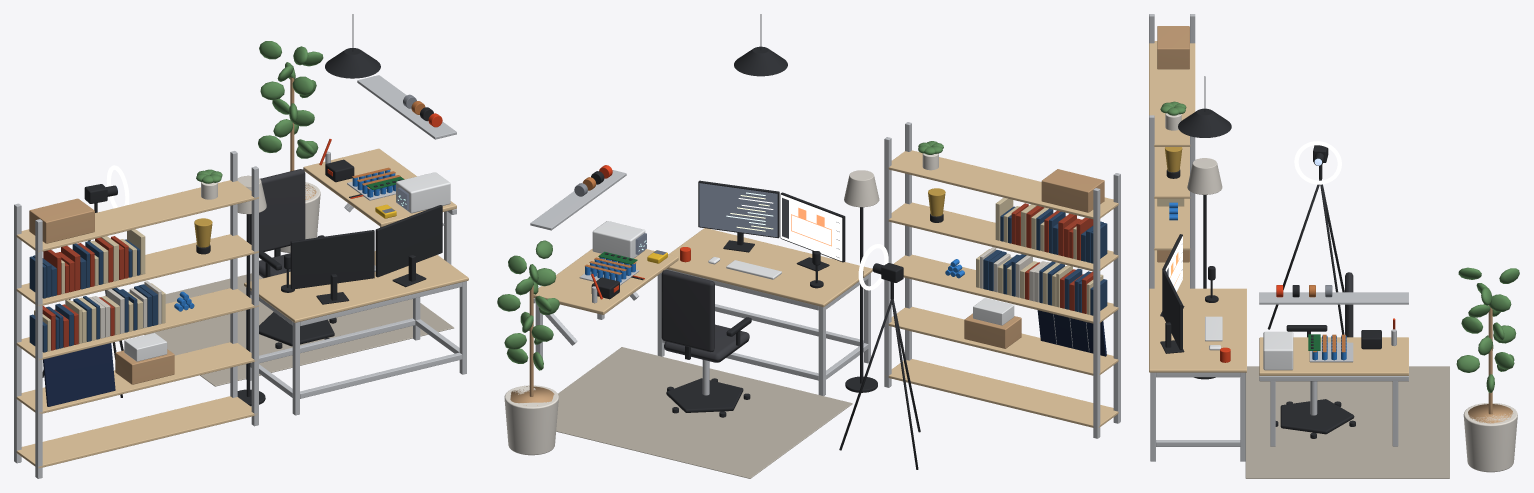
Rendered from calisma.glb.
3 renders of one model, left to right at view 1: azimuth 30°, elevation 25°; view 2: azimuth 150°, elevation 25°; view 3: azimuth 270°, elevation 25°, orthographic. The views are drawn at different scales.
Visible parts, largest first — view 1: rug, sh_board0, d_top, sh_board4, mon0_body, sh_board3, solar, ch_back, sh_board1, mon1_body, sh_board2, bn_top (+20 smaller); view 2: rug, d_top, sh_board0, sh_board1, sh_board4, ch_back, sh_board3, mon1_scr, bn_top, sh_board2, pl_pot, mon0_scr (+17 smaller); view 3: rug, d_top, bn_top, sh_board4, pl_pot, ch_base, bn_shelf, sh_board2, sbox3, sh_board3, scope_body, pend_shade (+21 smaller).
Boxes of the visible parts, <box> form: rug: <box>145,273,453,386</box>; sh_board0: <box>16,396,257,468</box>; d_top: <box>244,251,468,322</box>; sh_board4: <box>16,180,258,252</box>; mon0_body: <box>290,230,374,289</box>; sh_board3: <box>16,234,258,306</box>; solar: <box>43,343,115,406</box>; ch_back: <box>250,169,305,251</box>; sh_board1: <box>16,342,256,413</box>; mon1_body: <box>375,205,442,277</box>; sh_board2: <box>16,288,258,360</box>; bn_top: <box>303,148,456,226</box>; rug: <box>556,347,852,478</box>; d_top: <box>667,228,872,307</box>; sh_board0: <box>885,359,1118,427</box>; sh_board1: <box>885,306,1118,375</box>; sh_board4: <box>888,150,1118,219</box>; ch_back: <box>661,270,714,352</box>; sh_board3: <box>888,202,1118,271</box>; mon1_scr: <box>699,183,777,237</box>; bn_top: <box>533,249,678,314</box>; sh_board2: <box>894,254,1118,323</box>; pl_pot: <box>504,385,558,455</box>; mon0_scr: <box>781,194,842,261</box>; rug: <box>1245,366,1449,478</box>; d_top: <box>1149,288,1246,372</box>; bn_top: <box>1259,337,1408,375</box>; sh_board4: <box>1149,41,1195,146</box>; pl_pot: <box>1463,403,1517,472</box>; ch_base: <box>1280,399,1354,434</box>; bn_shelf: <box>1259,292,1408,304</box>; sh_board2: <box>1154,198,1190,250</box>; sbox3: <box>1157,26,1189,69</box>; sh_board3: <box>1154,147,1190,198</box>; scope_body: <box>1263,331,1293,370</box>; pend_shade: <box>1178,108,1231,137</box>.
Size of the model in its own units: 3.88 by 2.8 by 2.72.
